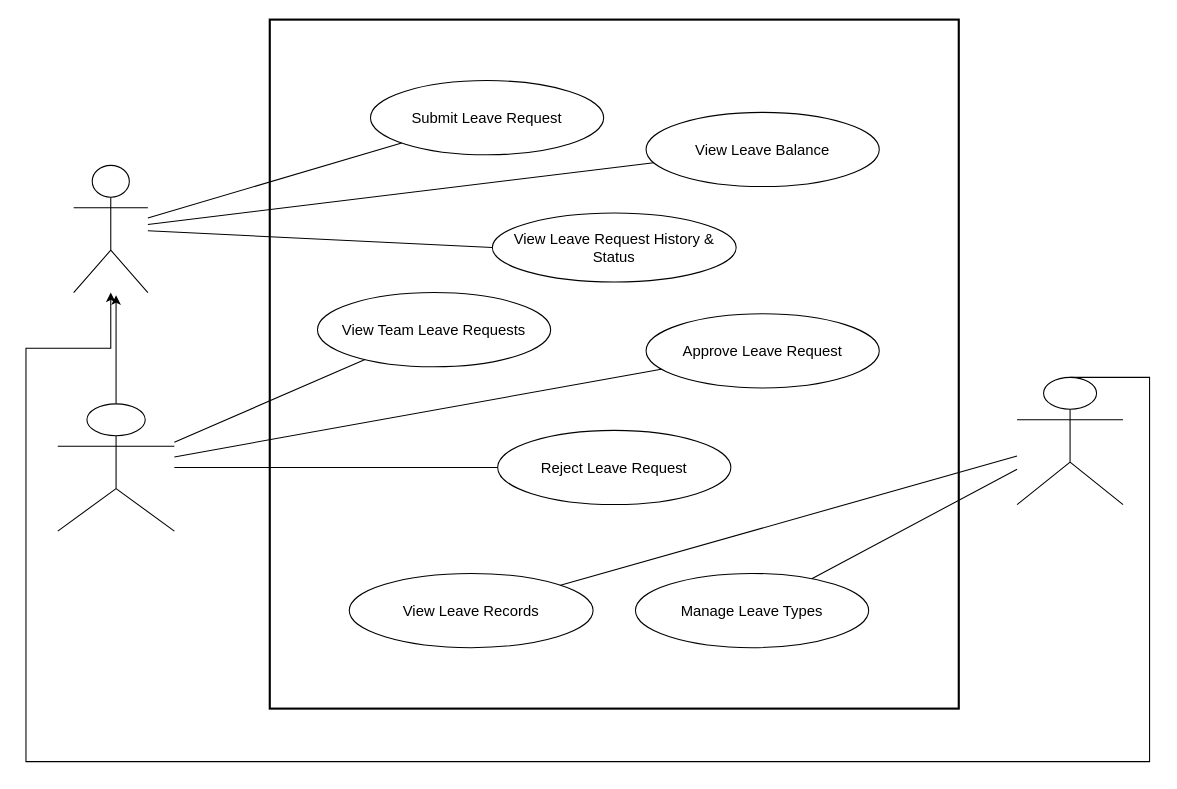
This 1177x789 diagram has some shape labels left out. Here are the shapes that lost their labels. From the top down, the box of each, then its label:
(73, 164, 148, 293): Employee
(268, 18, 959, 709): Use Case Diagram: Leave Management
(1016, 376, 1123, 505): Manager / Admin
(57, 403, 174, 531): Supervisor / Team Lead
